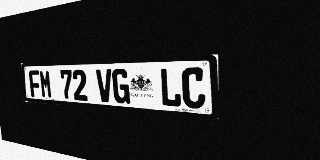2: (72, 69, 88, 101)
7: (59, 70, 74, 100)
C: (182, 67, 205, 109)
F: (29, 70, 41, 98)
G: (112, 69, 130, 104)
L: (159, 68, 182, 108)
M: (39, 70, 52, 98)
V: (96, 69, 113, 103)
